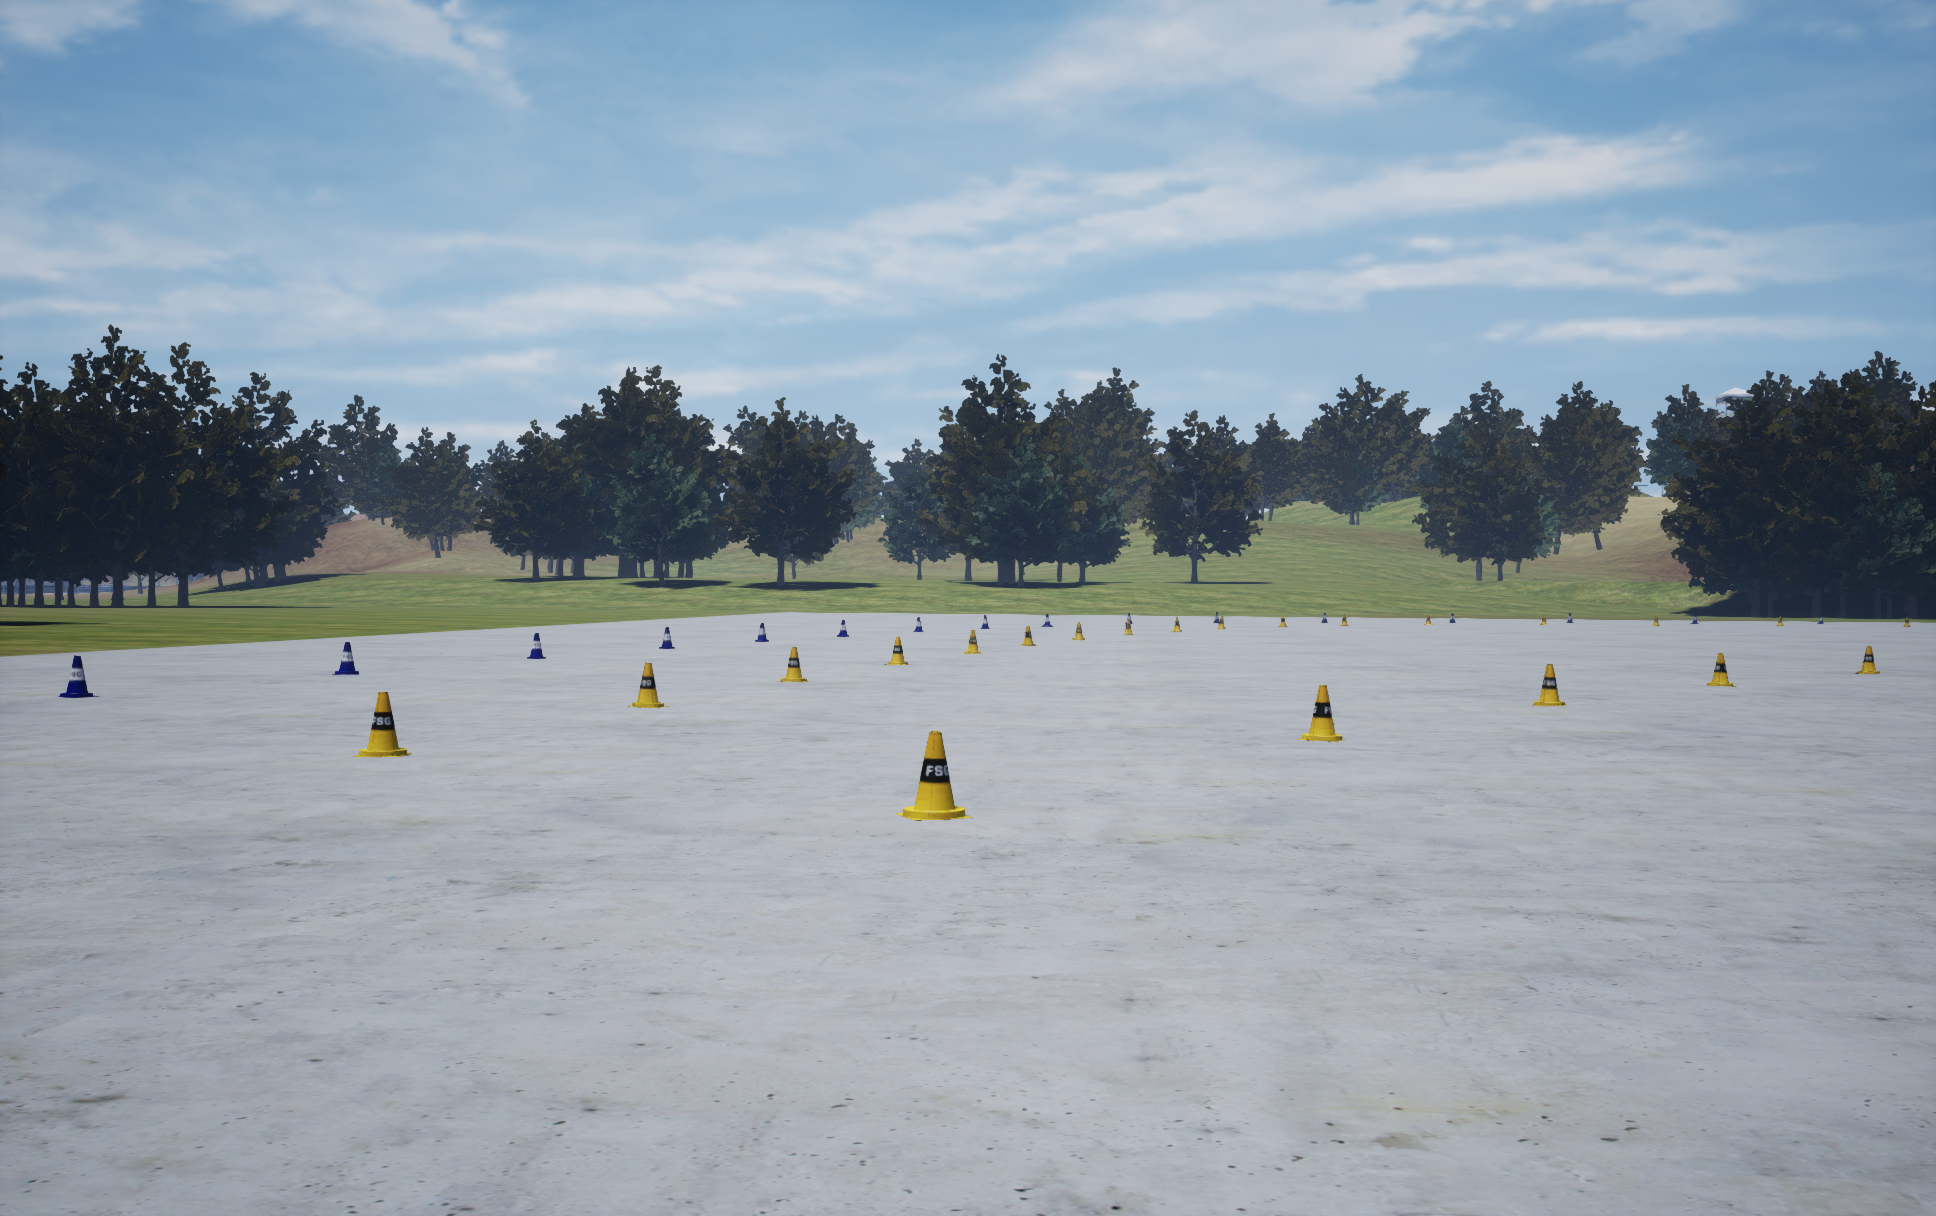blue: (897, 731, 972, 820), (353, 692, 410, 756), (1297, 685, 1345, 741), (628, 663, 670, 707), (1533, 664, 1565, 705), (777, 647, 807, 681), (1708, 653, 1736, 686), (1855, 646, 1879, 672), (884, 637, 906, 664), (964, 630, 982, 653), (1020, 626, 1037, 644)
yellow: (57, 656, 98, 698), (332, 642, 359, 674), (527, 633, 545, 658), (658, 628, 674, 649), (755, 623, 768, 642)
